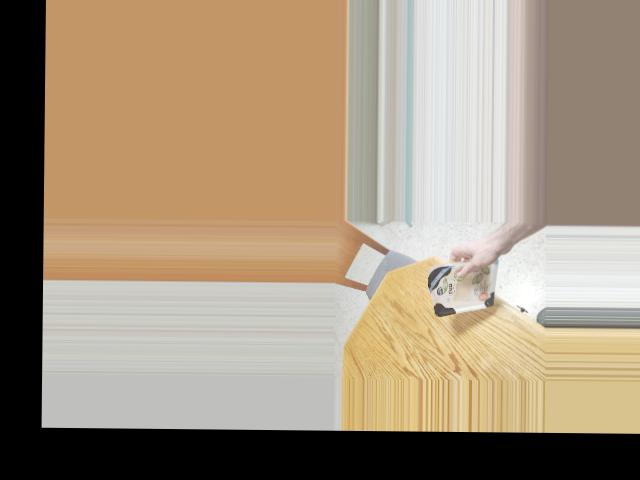cheese: (423, 260, 507, 311)
